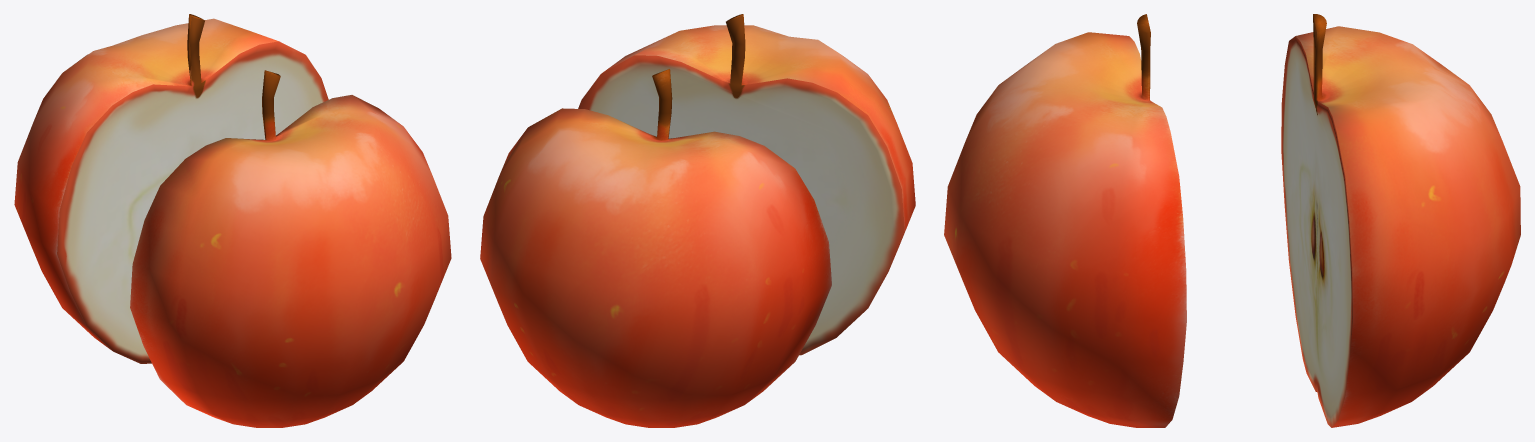
The model's file is appleCut.fbx.
3 views of the same model, side by side, from view 1: azimuth 30°, elevation 25°; view 2: azimuth 150°, elevation 25°; view 3: azimuth 270°, elevation 25° (orthographic). The views are drawn at different scales.
Visible parts, largest first — view 1: appleCut.right, appleCut.left; view 2: appleCut.left, appleCut.right; view 3: appleCut.left, appleCut.right.
Part boxes in pixels (<box>): appleCut.right: <box>130,70,451,427</box>; appleCut.left: <box>14,14,328,363</box>; appleCut.left: <box>480,69,831,427</box>; appleCut.right: <box>578,14,915,355</box>; appleCut.left: <box>1281,14,1520,427</box>; appleCut.right: <box>944,14,1186,427</box>.
Size of the model in its own units: 197 by 203 by 279.
